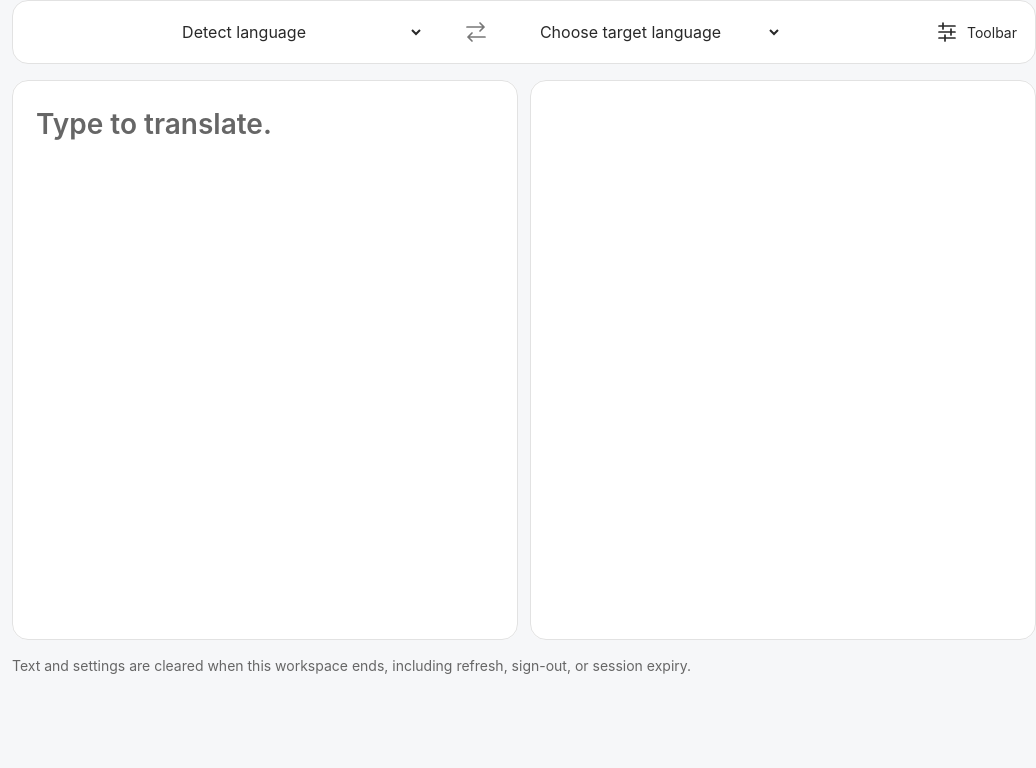
it: rejects a pending result after a source edit even before the new pause expires
The image size is (1036, 768).
Select "English" in the 1st dropdown named "Source language" at (297, 32), box [170, 10, 424, 54]
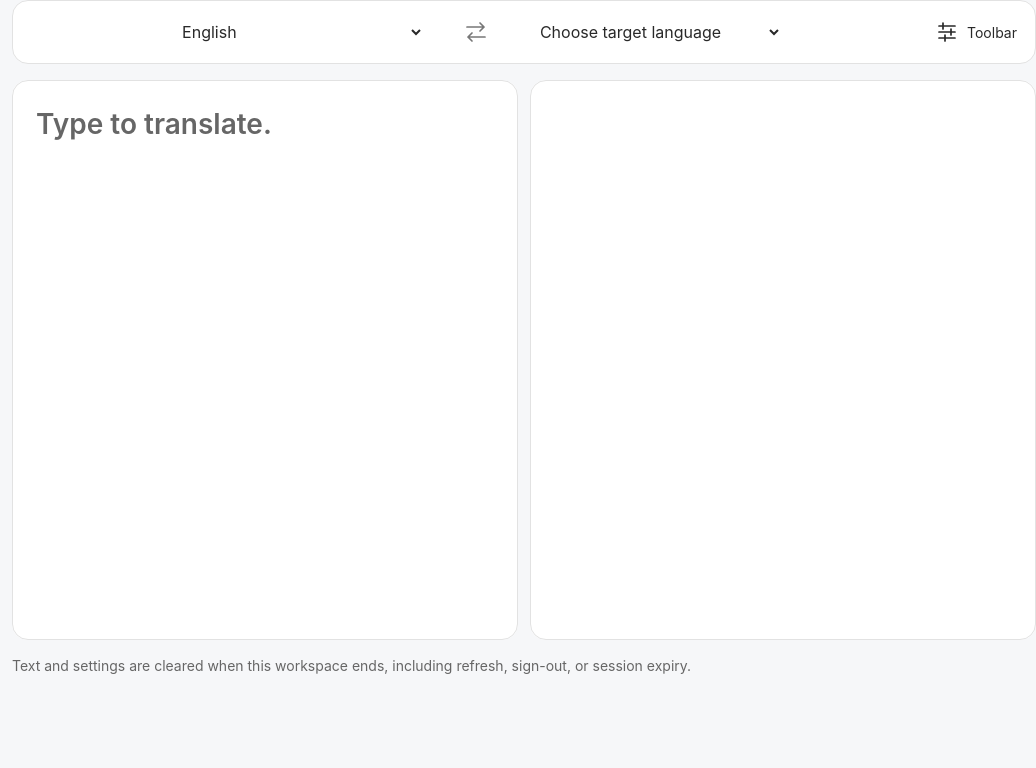
Select "Romanian" in the 2nd dropdown named "Target language" at (655, 32), box [528, 10, 782, 54]
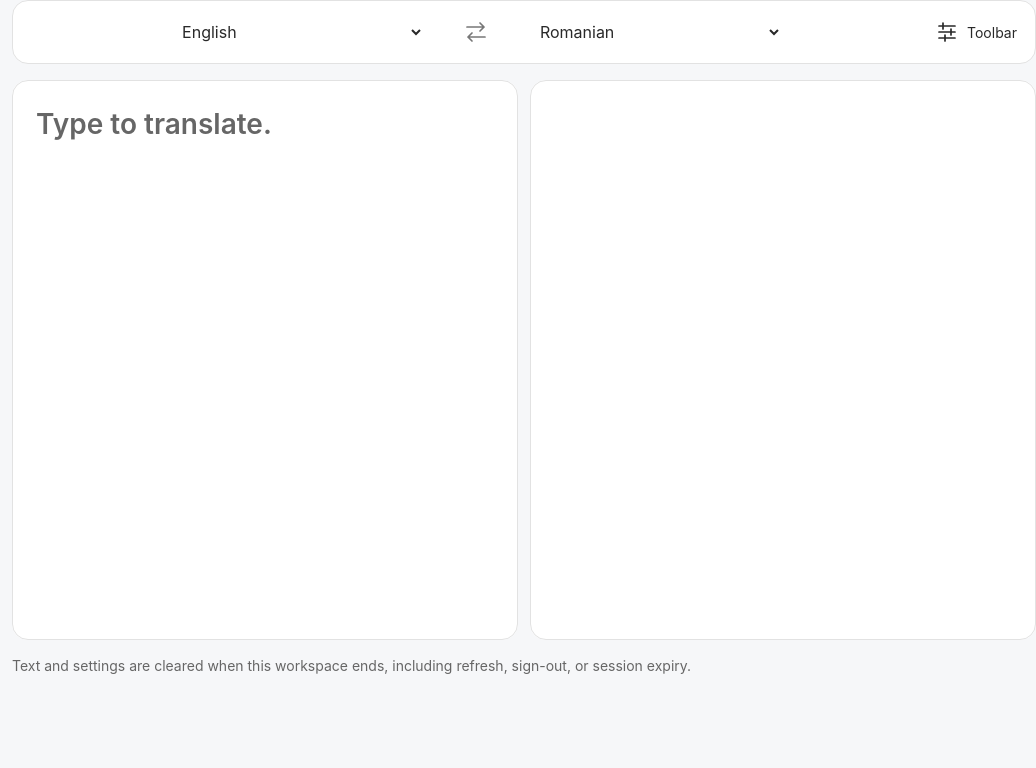
Type "Hello, the meeting starts at 14:30. Please go." into the text box labelled "Source text" at (265, 338), box [36, 104, 494, 572]
Wait 1000 ms
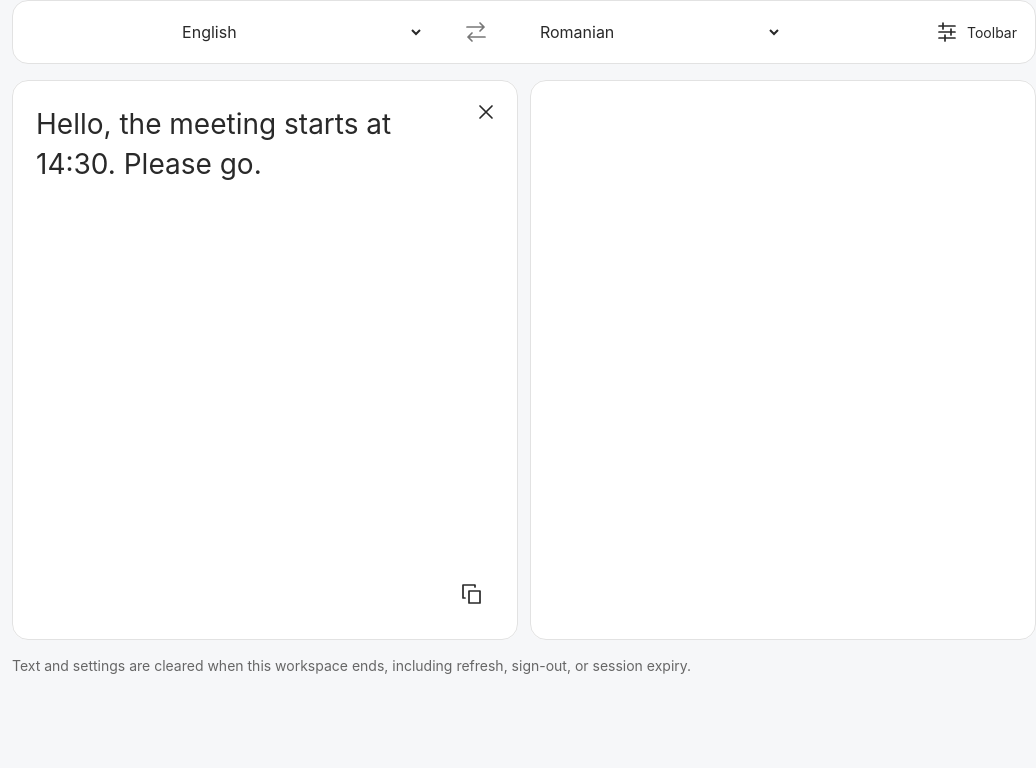
Replace the text in the text box labelled "Source text" with "Updated." at (265, 338), box [36, 104, 494, 572]
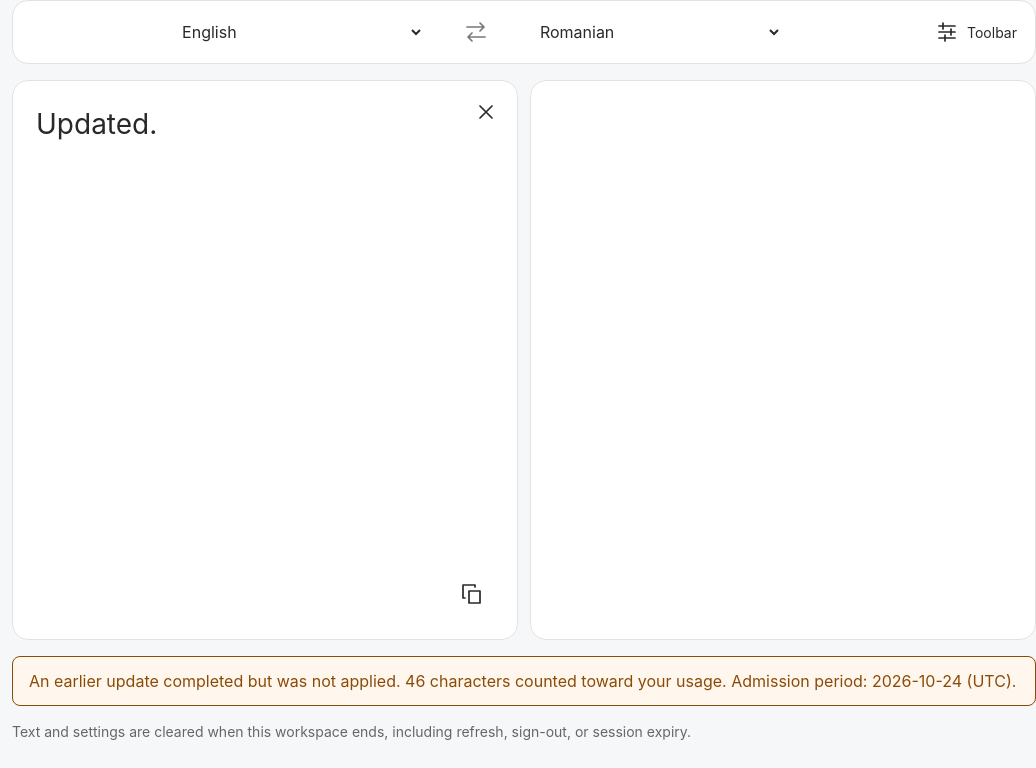
Expected: the text box labelled "Translation result" is empty, [554, 104, 1012, 572]
Result: the text "46 characters counted toward your usage" shows "2026-10-24" at [29, 671, 1016, 691]
